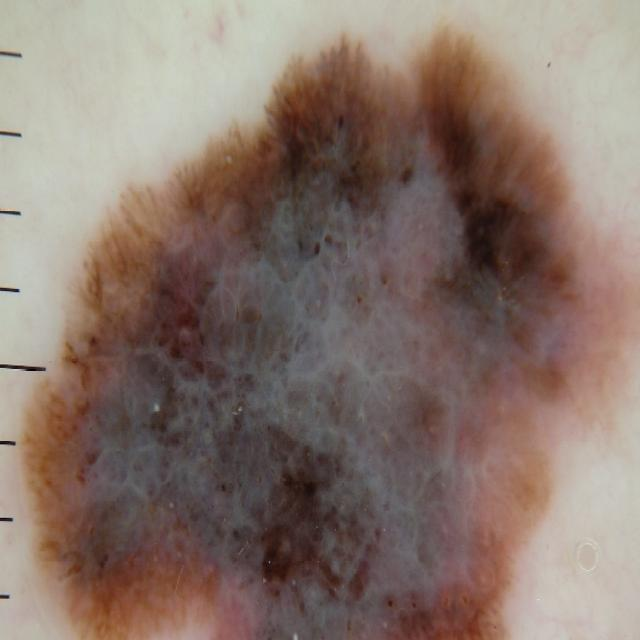Melanoma: (23, 13, 634, 640)
